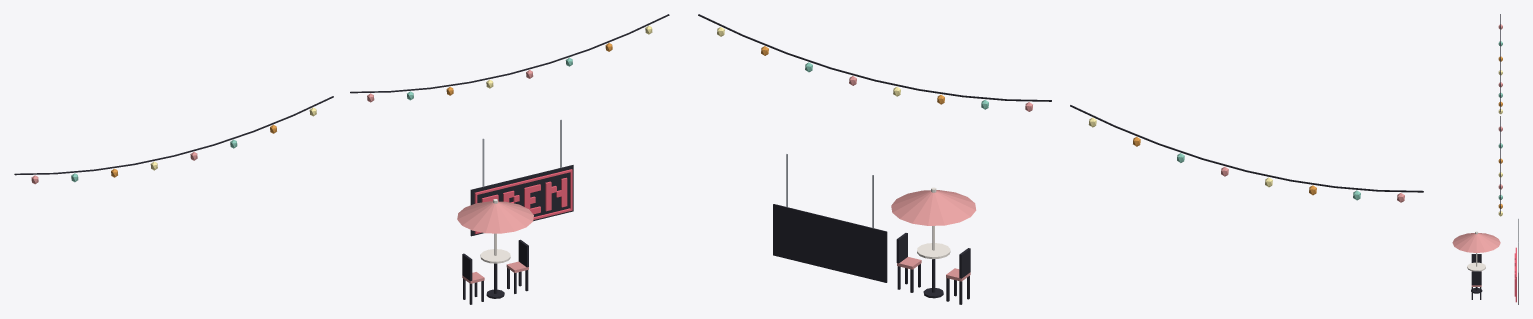
The model's file is CatCafe_Plot_Tier3.glb.
3 views of the same model, side by side, from view 1: azimuth 30°, elevation 25°; view 2: azimuth 150°, elevation 25°; view 3: azimuth 270°, elevation 25° (orthographic). The views are drawn at different scales.
Visible parts, largest first — view 1: CatCafe_Plot_Tier3, CatCafe_Plot_Tier3_Sign_Tube, CatCafe_Plot_Tier3_StringLights_Bulbs; view 2: CatCafe_Plot_Tier3, CatCafe_Plot_Tier3_StringLights_Bulbs; view 3: CatCafe_Plot_Tier3, CatCafe_Plot_Tier3_StringLights_Bulbs, CatCafe_Plot_Tier3_Sign_Tube.
Part boxes in pixels (x1,y1,x2,y2): CatCafe_Plot_Tier3: (14, 14, 669, 304); CatCafe_Plot_Tier3_Sign_Tube: (474, 169, 572, 233); CatCafe_Plot_Tier3_StringLights_Bulbs: (31, 25, 652, 184); CatCafe_Plot_Tier3: (698, 14, 1423, 304); CatCafe_Plot_Tier3_StringLights_Bulbs: (717, 27, 1404, 202); CatCafe_Plot_Tier3: (1452, 14, 1518, 304); CatCafe_Plot_Tier3_StringLights_Bulbs: (1498, 24, 1502, 216); CatCafe_Plot_Tier3_Sign_Tube: (1514, 247, 1516, 302).
Size of the model in its own units: 37.06 by 11.88 by 5.2.
1 material, 1 textured.
